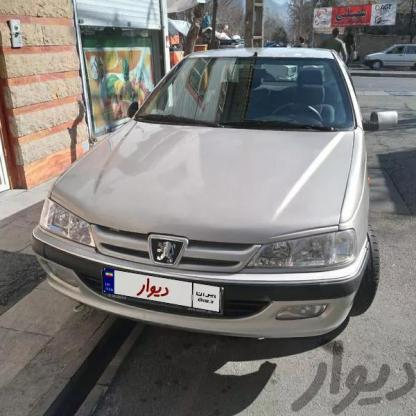Car: (44, 33, 399, 348), (367, 40, 416, 74)
